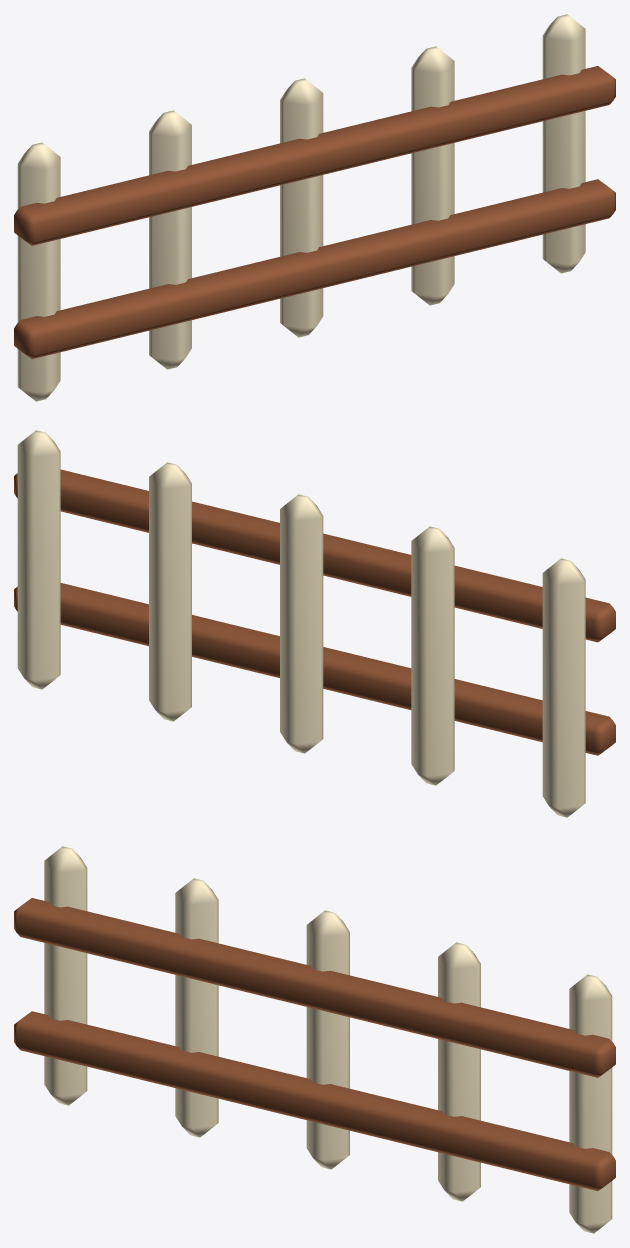
Rendered from fence.glb.
3 renders of one model, top to bottom at view 1: azimuth 30°, elevation 25°; view 2: azimuth 150°, elevation 25°; view 3: azimuth 330°, elevation 25°, orthographic.
Parts seen in each view (by area): view 1: Rail, Rail.001, Picket, Picket.003, Picket.004, Picket.002, Picket.001; view 2: Rail.001, Rail, Picket.004, Picket.001, Picket, Picket.002, Picket.003; view 3: Rail, Rail.001, Picket.004, Picket.001, Picket, Picket.002, Picket.003.
Part boxes in pixels (box(x1,y1,x2,y2)): Rail: box(14, 179, 615, 358); Rail.001: box(14, 66, 615, 245); Picket: box(17, 142, 60, 401); Picket.003: box(411, 46, 454, 305); Picket.004: box(542, 14, 585, 273); Picket.002: box(280, 78, 323, 337); Picket.001: box(149, 110, 191, 369); Rail.001: box(14, 469, 615, 642); Rail: box(14, 583, 615, 755); Picket.004: box(17, 430, 60, 689); Picket.001: box(411, 526, 454, 785); Picket: box(542, 558, 585, 817); Picket.002: box(280, 494, 323, 753); Picket.003: box(149, 462, 191, 721); Rail: box(14, 1011, 615, 1190); Rail.001: box(14, 898, 615, 1077); Picket.004: box(569, 974, 612, 1233); Picket.001: box(175, 878, 218, 1137); Picket: box(44, 846, 87, 1105); Picket.002: box(306, 910, 349, 1169); Picket.003: box(438, 942, 480, 1201).
Bounding box in the file's own units: 1.8 × 0.74 × 0.175.
